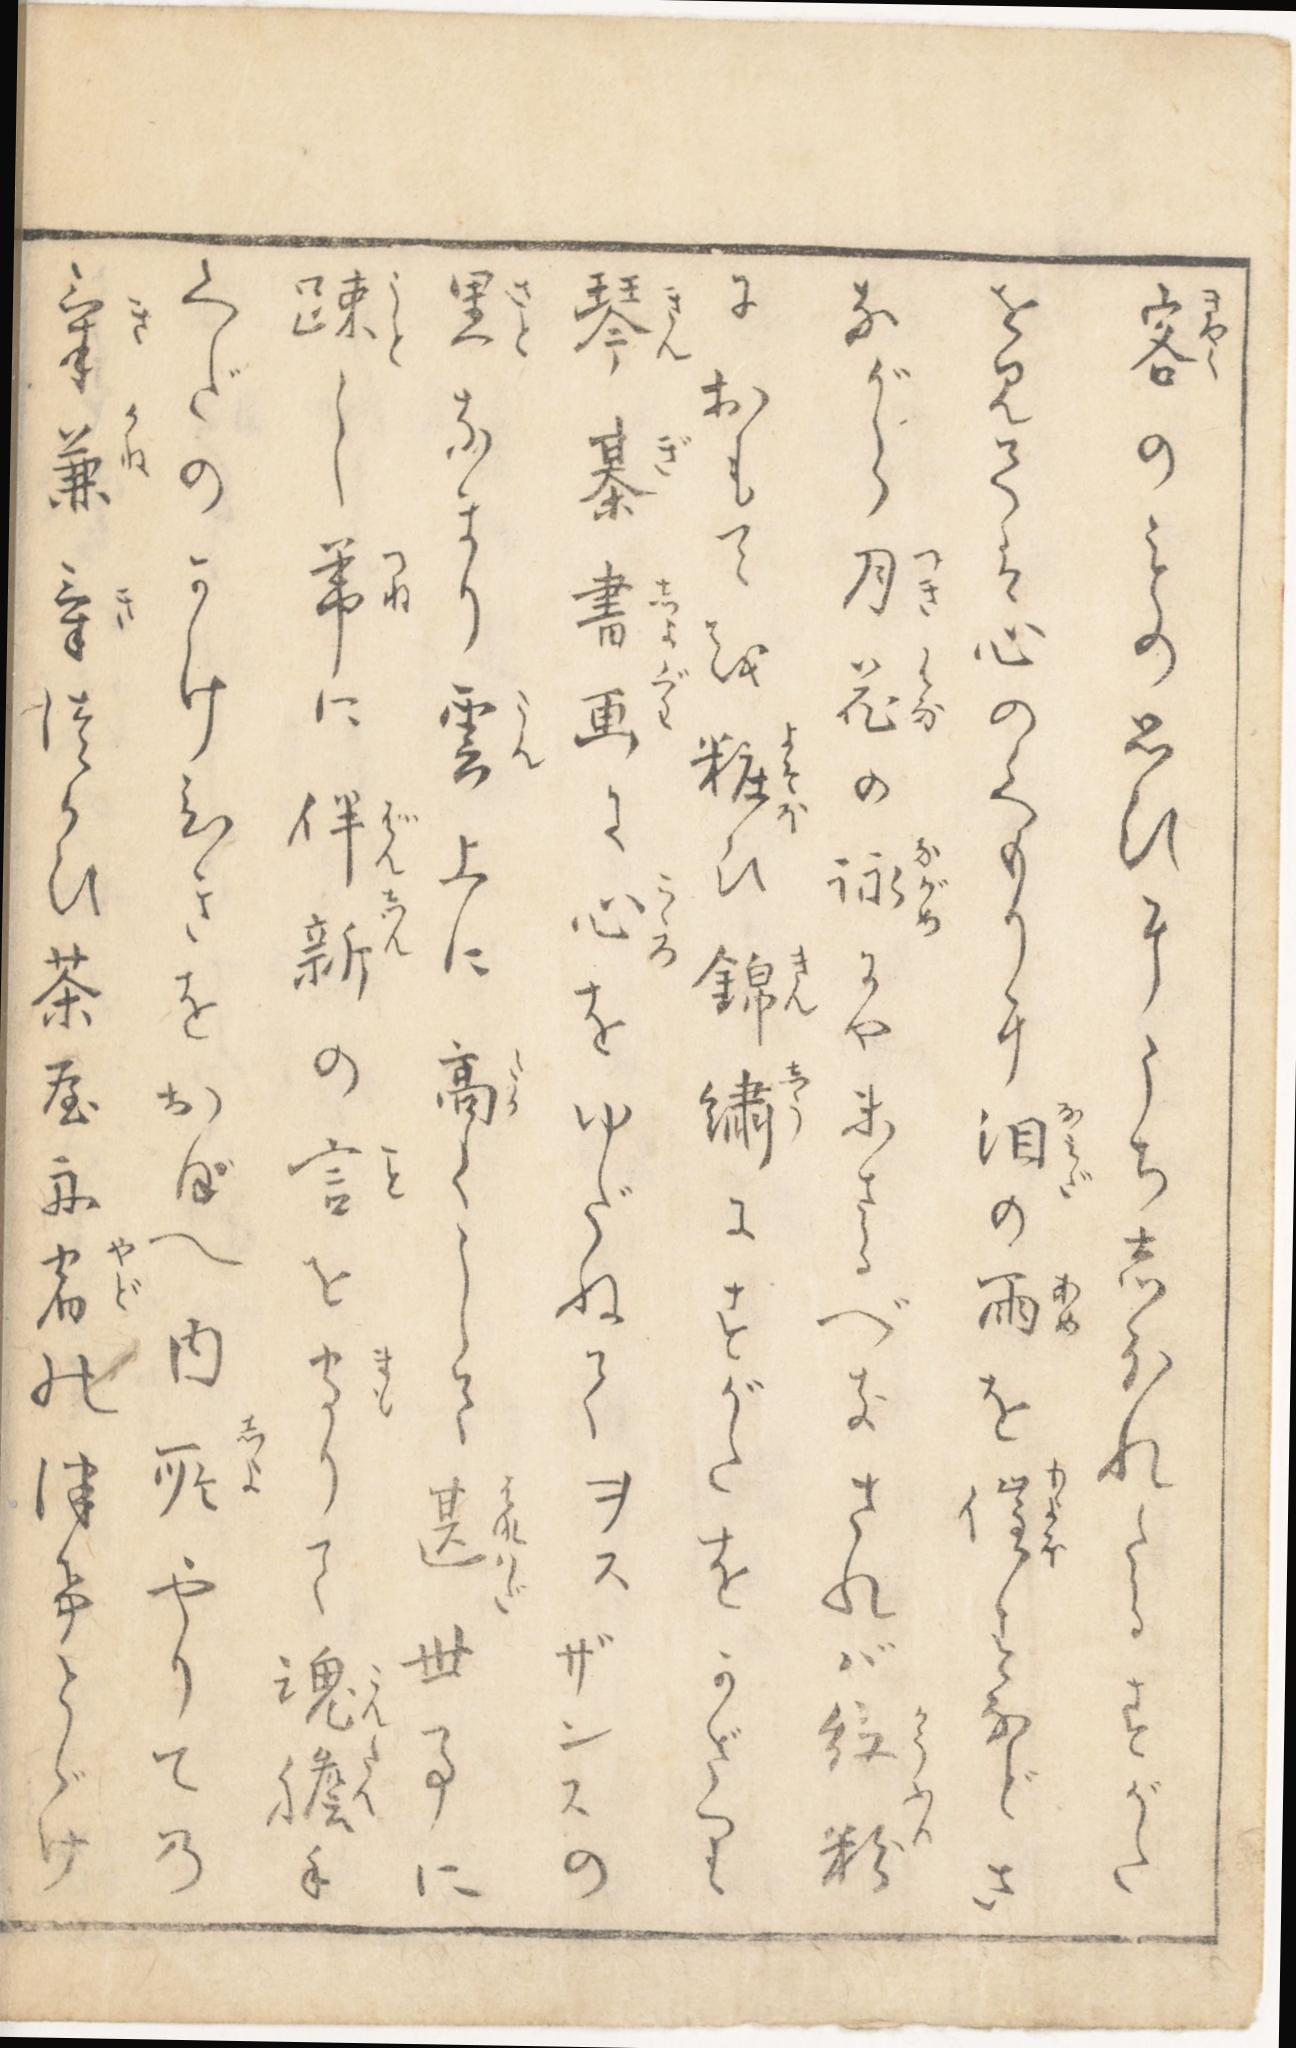MainZone-Character: (411, 1470, 546, 1620), (43, 261, 161, 399), (282, 260, 418, 372), (290, 887, 423, 1000), (950, 1454, 1084, 1566), (685, 712, 812, 830), (282, 784, 427, 887), (814, 1784, 945, 1897), (255, 1735, 396, 1841), (142, 1408, 269, 1524), (688, 1052, 817, 1167), (965, 1094, 1102, 1200), (821, 833, 959, 939), (40, 396, 155, 521), (687, 946, 829, 1048), (257, 1635, 393, 1735), (432, 675, 543, 793), (291, 533, 418, 636), (570, 405, 687, 516), (276, 1124, 409, 1221), (567, 267, 687, 375), (1132, 278, 1235, 399), (564, 655, 690, 754), (40, 557, 154, 664), (829, 642, 951, 740), (564, 866, 685, 964), (30, 1233, 145, 1336), (418, 1033, 542, 1127), (812, 1687, 938, 1775), (563, 563, 685, 651), (963, 1264, 1090, 1346), (299, 1337, 412, 1426), (439, 266, 546, 357), (836, 546, 944, 630)
MainZone-Ruby: (482, 1470, 538, 1614), (905, 833, 957, 946), (1054, 1094, 1100, 1209), (1036, 1457, 1082, 1572), (903, 642, 953, 740), (767, 721, 812, 828), (651, 276, 699, 373), (372, 796, 426, 879), (641, 866, 684, 967), (503, 679, 545, 776), (100, 1231, 145, 1318), (1191, 284, 1230, 382), (645, 566, 690, 651), (228, 1411, 272, 1497), (108, 400, 154, 479), (502, 269, 542, 357), (376, 266, 412, 364), (346, 1735, 387, 1821), (775, 1051, 817, 1131), (900, 1697, 944, 1775), (647, 655, 693, 727), (911, 543, 953, 622), (358, 1660, 400, 1736), (1048, 1263, 1085, 1346), (369, 891, 415, 958), (778, 940, 818, 1017), (375, 545, 415, 621), (651, 424, 699, 488), (366, 1339, 403, 1421), (905, 1784, 947, 1854), (502, 1049, 535, 1126), (379, 1139, 411, 1208), (118, 293, 154, 349), (106, 582, 140, 628)
